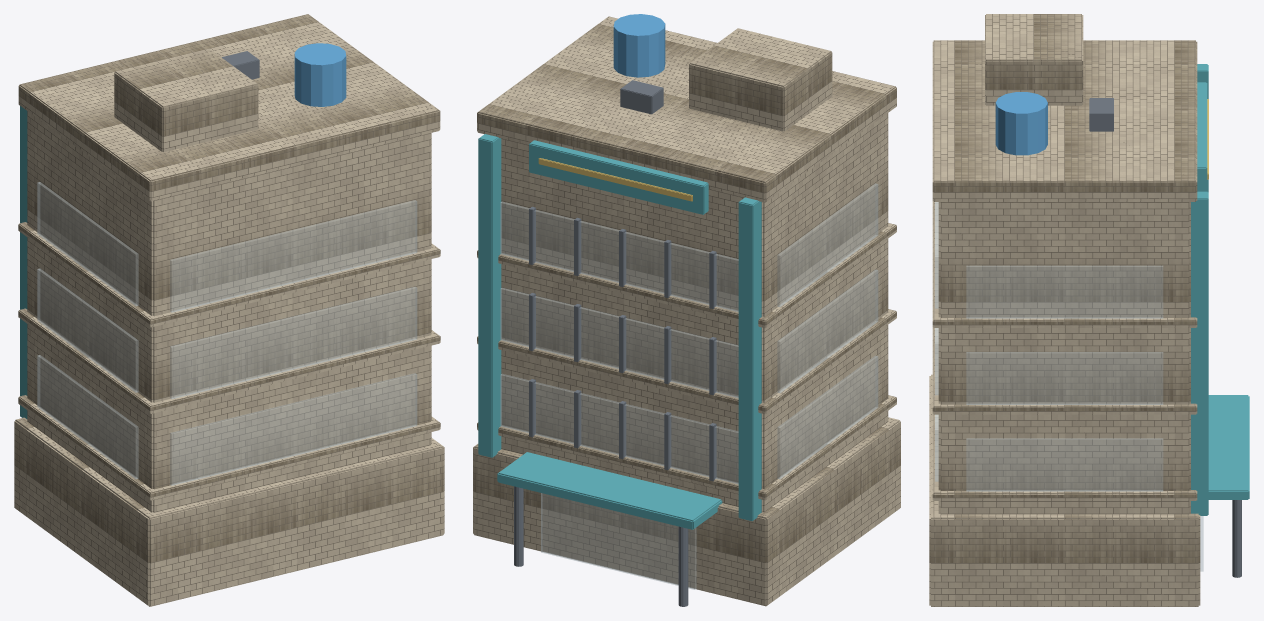
File: gedung_kantor.glb
3 renders of one model, left to right at view 1: azimuth 30°, elevation 25°; view 2: azimuth 150°, elevation 25°; view 3: azimuth 270°, elevation 25°, orthographic.
Visible parts, largest first — view 1: TowerMain, BasePlinth, RoofParapet, BackWinBand_1, BackWinBand_2, BackWinBand_0, RoofPenthouse, LeftWinBand_1, LeftWinBand_0, LeftWinBand_2, FloorLedge_1, FloorLedge_2 (+4 smaller); view 2: TowerMain, RoofParapet, BasePlinth, FrontWinBand_0, FrontWinBand_2, FrontWinBand_1, RoofPenthouse, LobbyGlass, LobbyCanopy, Fin_L, Fin_R, LeftWinBand_2 (+11 smaller); view 3: TowerMain, RoofParapet, BasePlinth, RightWinBand_0, RightWinBand_1, RightWinBand_2, RoofPenthouse, Fin_R, LobbyCanopy, FloorLedge_2, FloorLedge_1, FloorLedge_0 (+4 smaller).
Part boxes in pixels (<box>): TowerMain: <box>27,111,431,512</box>; BasePlinth: <box>14,417,444,606</box>; RoofParapet: <box>18,14,440,201</box>; BackWinBand_1: <box>170,287,417,398</box>; BackWinBand_2: <box>170,200,417,312</box>; BackWinBand_0: <box>170,373,417,485</box>; RoofPenthouse: <box>114,48,258,151</box>; LeftWinBand_1: <box>37,268,138,392</box>; LeftWinBand_0: <box>37,355,138,478</box>; LeftWinBand_2: <box>37,182,138,305</box>; FloorLedge_1: <box>18,308,440,413</box>; FloorLedge_2: <box>18,222,440,327</box>; TowerMain: <box>501,113,888,512</box>; RoofParapet: <box>477,16,896,202</box>; BasePlinth: <box>473,417,900,606</box>; FrontWinBand_0: <box>500,374,738,484</box>; FrontWinBand_2: <box>500,201,738,311</box>; FrontWinBand_1: <box>500,288,738,397</box>; RoofPenthouse: <box>689,28,832,131</box>; LobbyGlass: <box>541,493,696,589</box>; LobbyCanopy: <box>497,452,722,529</box>; Fin_L: <box>738,197,761,521</box>; Fin_R: <box>478,134,501,457</box>; LeftWinBand_2: <box>777,183,878,306</box>; TowerMain: <box>938,202,1190,514</box>; RoofParapet: <box>932,40,1197,201</box>; BasePlinth: <box>929,374,1200,606</box>; RightWinBand_0: <box>966,438,1163,491</box>; RightWinBand_1: <box>966,352,1163,404</box>; RightWinBand_2: <box>966,266,1163,318</box>; RoofPenthouse: <box>985,14,1083,105</box>; Fin_R: <box>1191,191,1208,515</box>; LobbyCanopy: <box>1208,395,1249,499</box>; FloorLedge_2: <box>932,201,1197,327</box>; FloorLedge_1: <box>932,327,1197,414</box>; FloorLedge_0: <box>932,414,1197,500</box>.
Size of the model in its own units: 11.1 by 16.85 by 10.4.
Materials: 7 (2 with a texture image).
